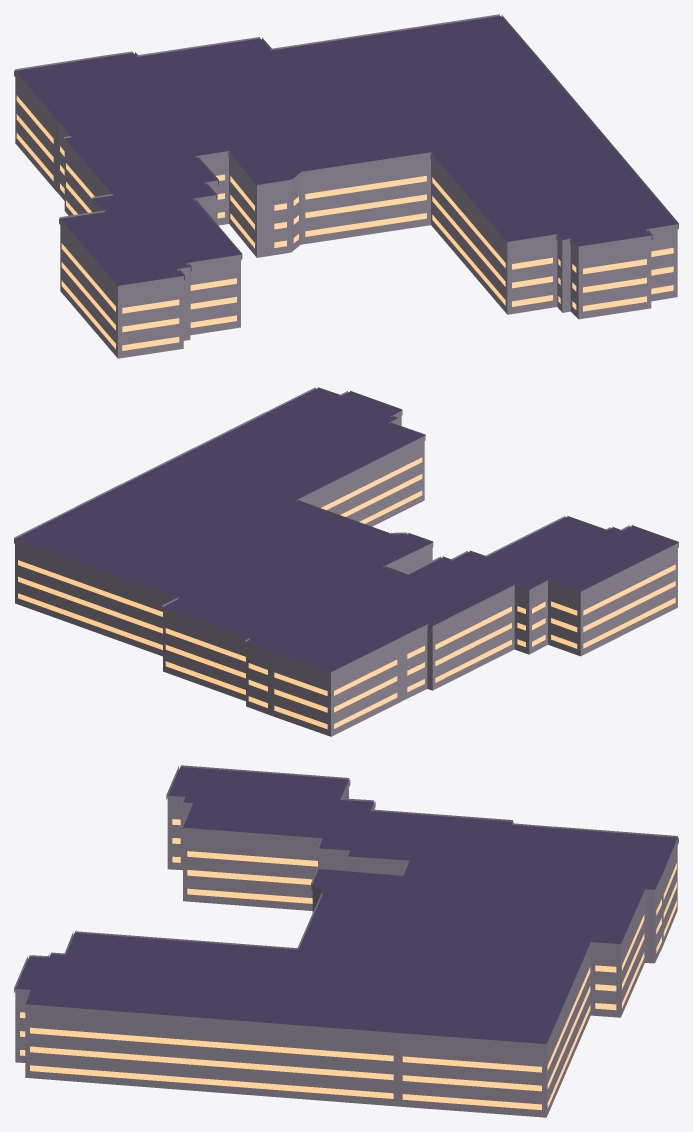
File: core-social-science-centre.glb
The picture shows the model from 3 angles, top to bottom: view 1: azimuth 30°, elevation 25°; view 2: azimuth 150°, elevation 25°; view 3: azimuth 270°, elevation 25°; orthographic projection. The views are drawn at different scales.
Parts seen in each view (by area): view 1: campus/core-social-science-centre-0; view 2: campus/core-social-science-centre-0; view 3: campus/core-social-science-centre-0.
Part boxes in pixels (left/top/right/bottom): campus/core-social-science-centre-0: left=14, top=14, right=678, bottom=358; campus/core-social-science-centre-0: left=14, top=387, right=678, bottom=736; campus/core-social-science-centre-0: left=14, top=765, right=678, bottom=1117.
Bounding box in the file's own units: 114 × 14.2 × 115.
